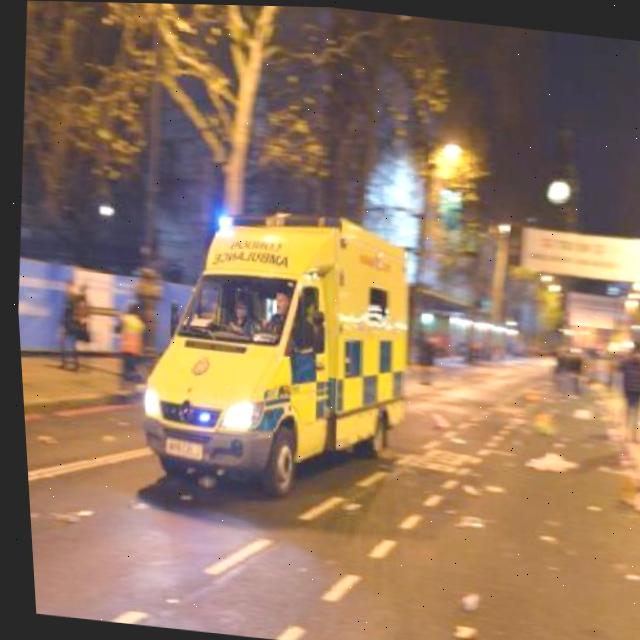emergency: (121, 191, 424, 510)
